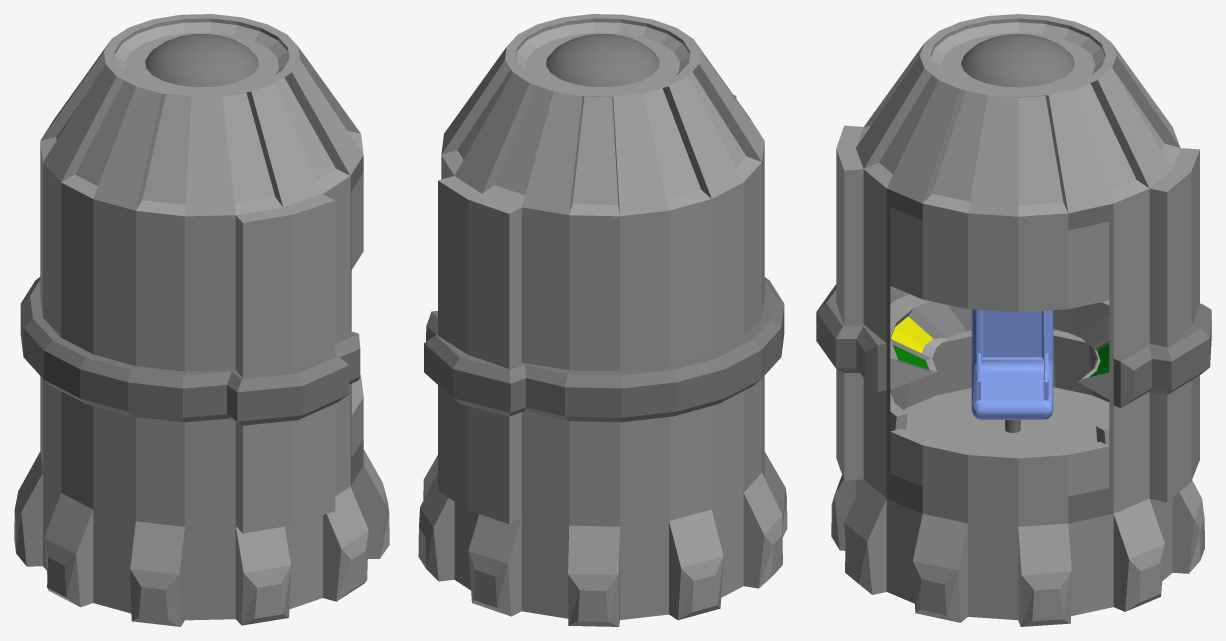
The model's file is OPENED ESCAPE POD.fbx.
3 renders of one model, left to right at view 1: azimuth 30°, elevation 25°; view 2: azimuth 150°, elevation 25°; view 3: azimuth 270°, elevation 25°, orthographic.
Parts seen in each view (by area): view 1: polySurface1, pSphere1; view 2: polySurface1, pSphere1; view 3: polySurface1, pCube4, pSphere1.
Boxes of the visible parts, <box> form: polySurface1: <box>14,14,389,626</box>; pSphere1: <box>145,34,258,87</box>; polySurface1: <box>418,14,787,626</box>; pSphere1: <box>546,33,659,87</box>; polySurface1: <box>816,14,1211,626</box>; pCube4: <box>971,309,1053,419</box>; pSphere1: <box>961,34,1075,87</box>.
Bounding box in the file's own units: 1.38 × 2.07 × 1.46.
